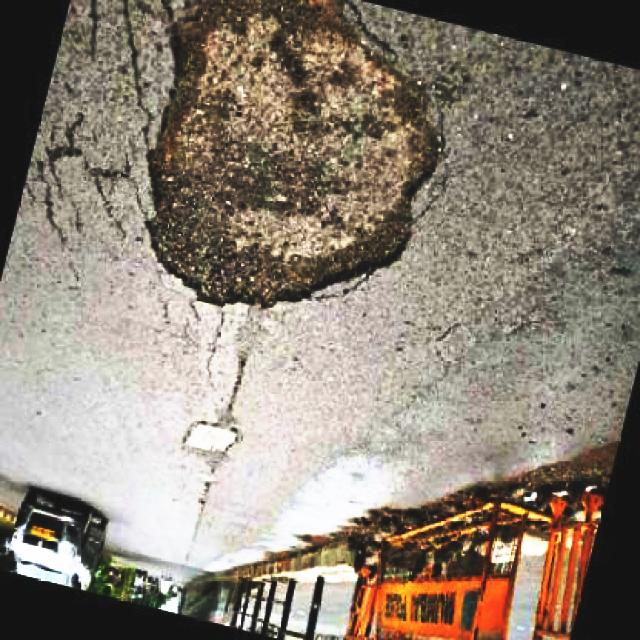pothole: (142, 0, 442, 311)
